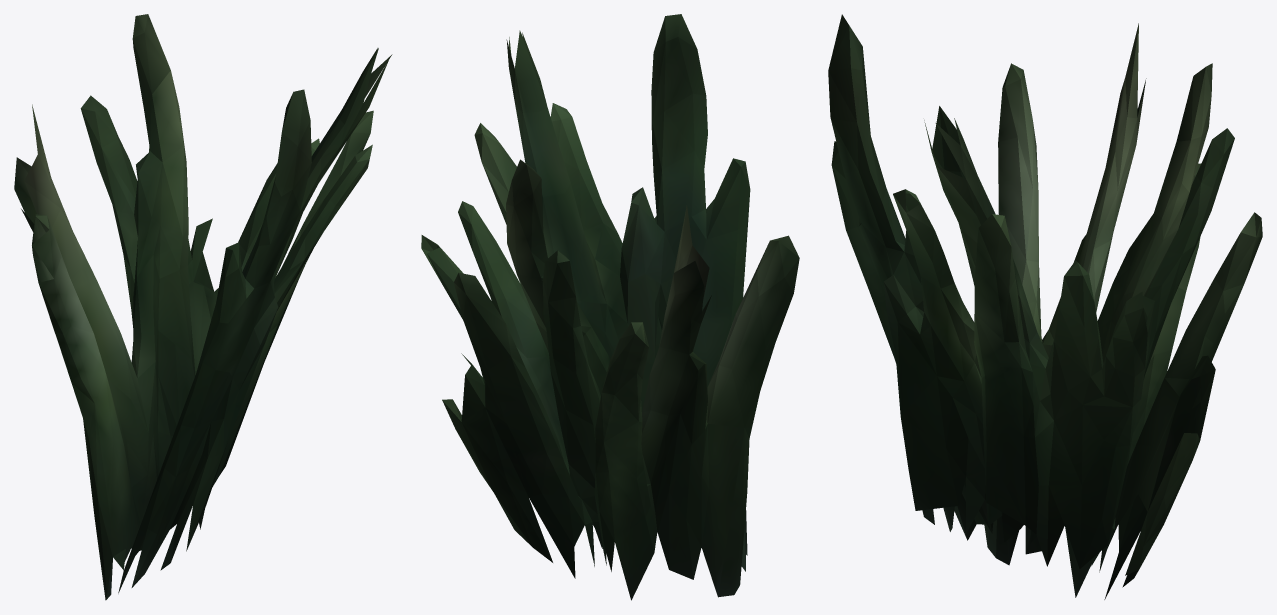
Rendered from terrain4_plant_4.glb.
3 renders of one model, left to right at view 1: azimuth 30°, elevation 25°; view 2: azimuth 150°, elevation 25°; view 3: azimuth 270°, elevation 25°, orthographic. The views are drawn at different scales.
Visible parts, largest first — view 1: plant_4; view 2: plant_4; view 3: plant_4.
Part boxes in pixels (x1,y1,x2,y2): plant_4: (14, 14, 392, 600); plant_4: (421, 14, 799, 600); plant_4: (828, 14, 1262, 599).
Bounding box in the file's own units: 8.36 × 12.43 × 7.97.
1 material, 1 textured.
